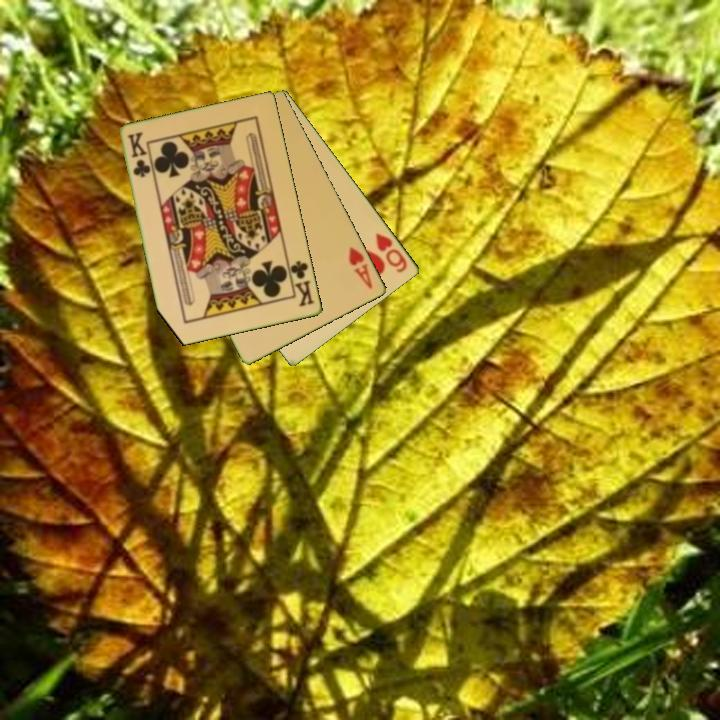6h: (372, 229, 411, 276)
Ah: (345, 243, 376, 292)
Kc: (285, 257, 317, 310), (124, 129, 153, 181)
